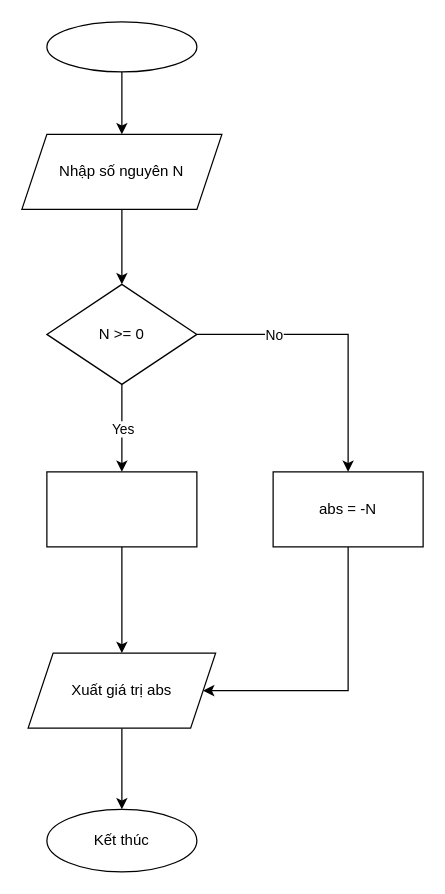
The diagram is 445 pixels wide and 894 high, and some of its shapes have lost their labels. Each missing label, with the centre of its shape:
abs = N: the point at 121,509
Bắt đầu: the point at 121,46
